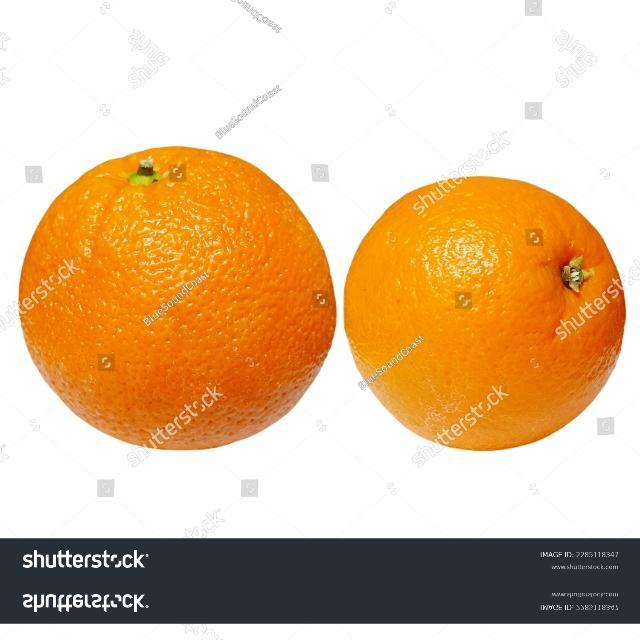Orange: (17, 144, 337, 451), (342, 174, 626, 452)
